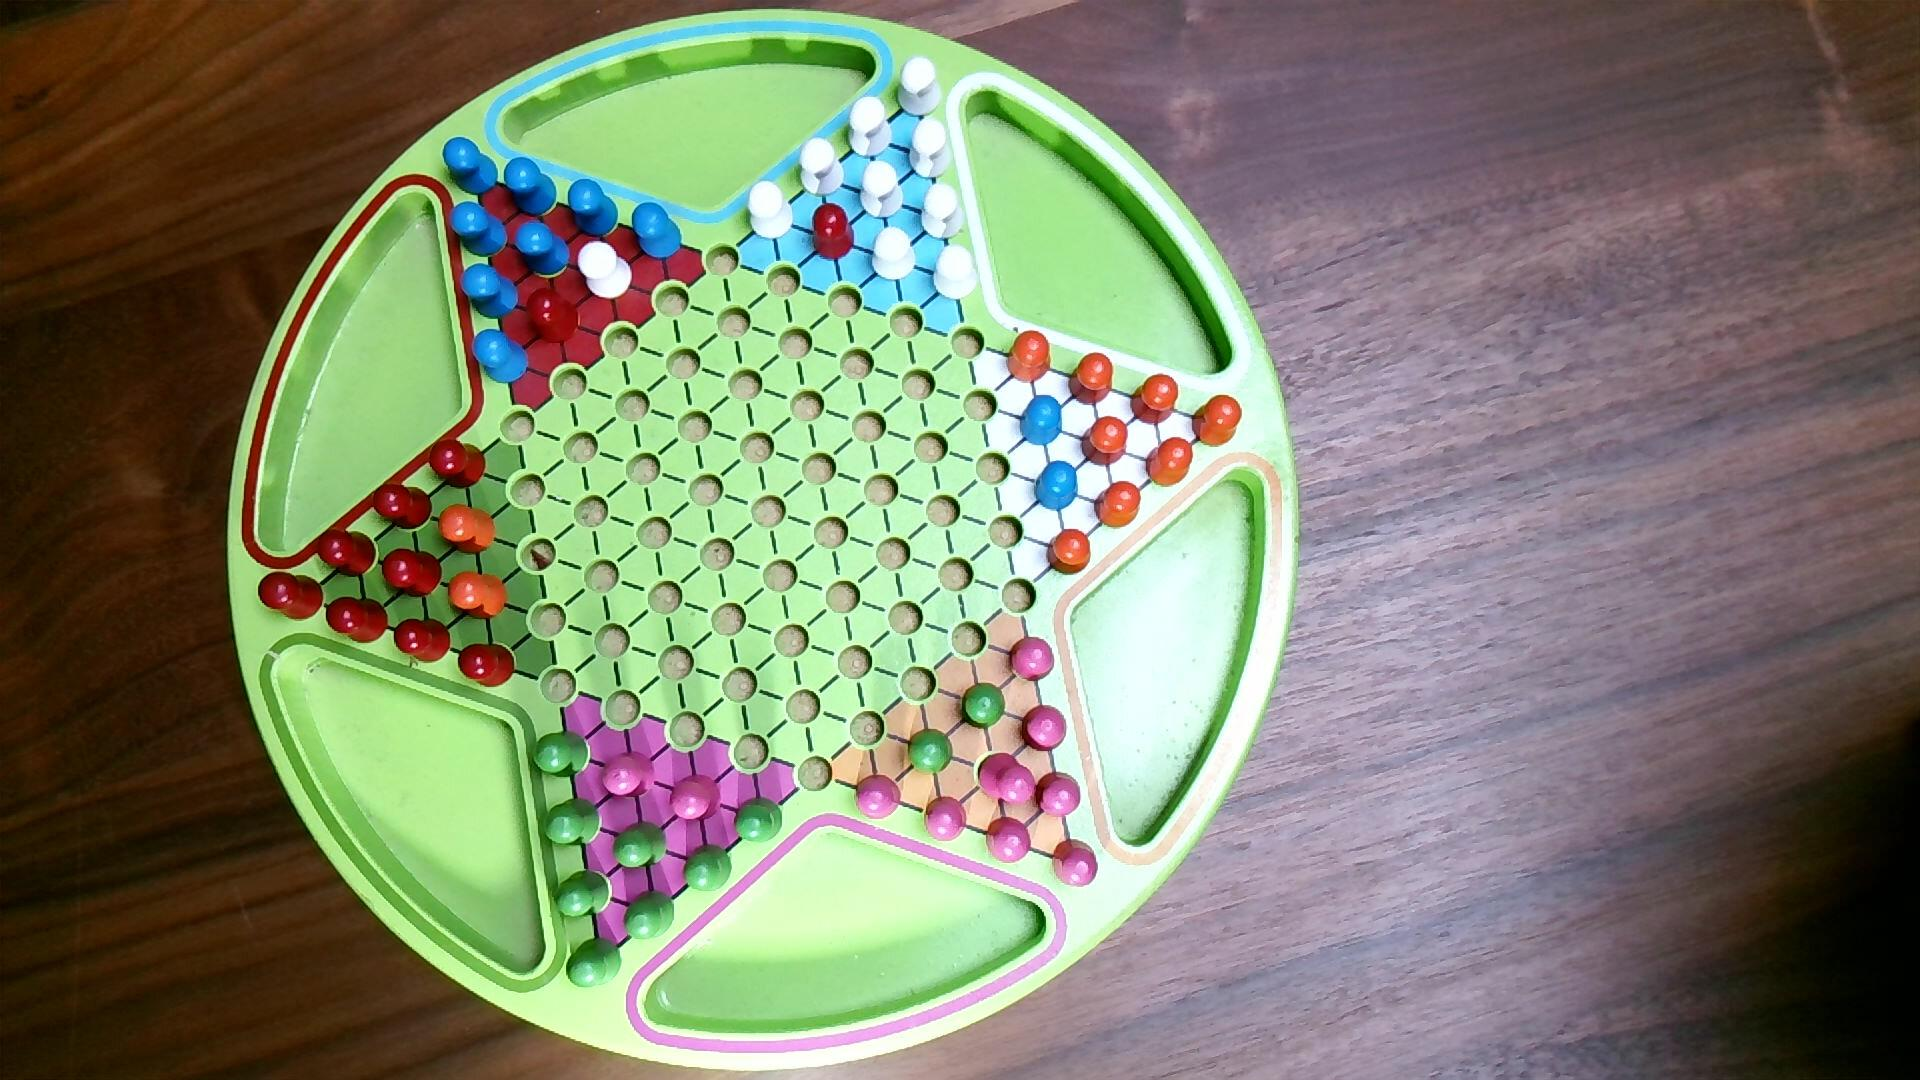B: (440, 135, 501, 198), (459, 262, 521, 322), (447, 200, 510, 258), (502, 156, 560, 219), (471, 328, 531, 386), (514, 220, 574, 278), (567, 177, 621, 240), (632, 200, 684, 260), (1033, 459, 1081, 513), (1019, 392, 1065, 448)
G: (564, 936, 624, 992), (542, 796, 603, 849), (553, 868, 612, 920), (531, 729, 592, 781), (612, 820, 669, 872), (622, 889, 676, 942), (682, 843, 735, 895), (732, 795, 785, 845), (959, 680, 1007, 732), (906, 727, 955, 777)
O: (436, 502, 498, 556), (447, 570, 510, 622), (1129, 372, 1182, 427), (1192, 393, 1244, 448), (1068, 351, 1116, 407), (1007, 328, 1054, 386), (1080, 415, 1130, 468), (1145, 436, 1195, 489), (1093, 479, 1143, 530), (1044, 527, 1093, 578)
R: (257, 570, 326, 622), (525, 285, 582, 345), (326, 595, 392, 646), (381, 547, 444, 600), (315, 527, 380, 579), (427, 436, 488, 491), (371, 483, 435, 533), (808, 200, 857, 264), (393, 616, 454, 665), (458, 642, 517, 690)
R2: (976, 752, 1038, 807), (600, 749, 657, 800), (669, 774, 723, 824), (1051, 837, 1100, 890), (855, 773, 905, 823), (985, 815, 1034, 866), (1021, 703, 1069, 754), (1007, 636, 1058, 684), (923, 795, 971, 844), (1036, 770, 1083, 820)
W: (578, 240, 636, 302), (845, 95, 894, 160), (746, 179, 796, 241), (897, 55, 945, 117), (907, 115, 953, 179), (858, 160, 906, 220), (799, 136, 847, 196), (934, 243, 980, 303), (920, 182, 967, 243), (872, 225, 918, 284)
